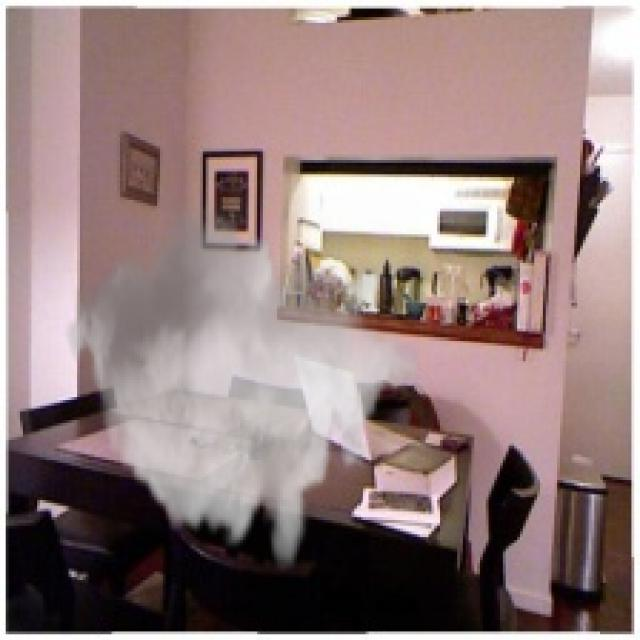smoke: (63, 195, 420, 574)
